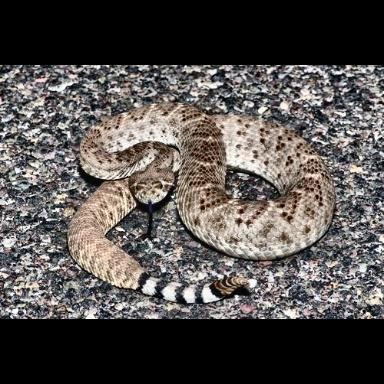snake: (49, 84, 356, 321)
